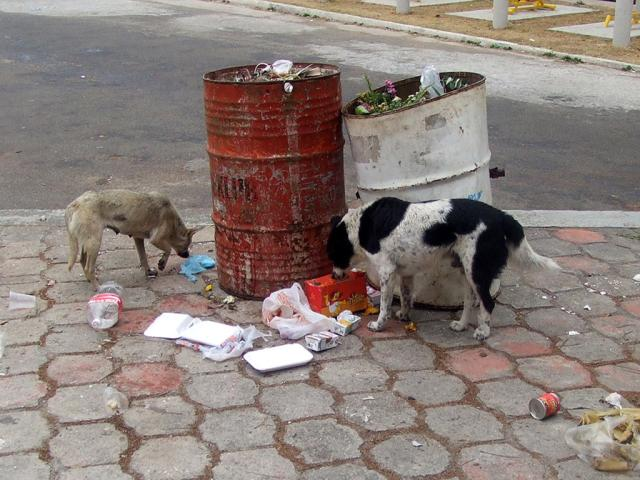Dog: (320, 197, 562, 341), (60, 192, 205, 294)
